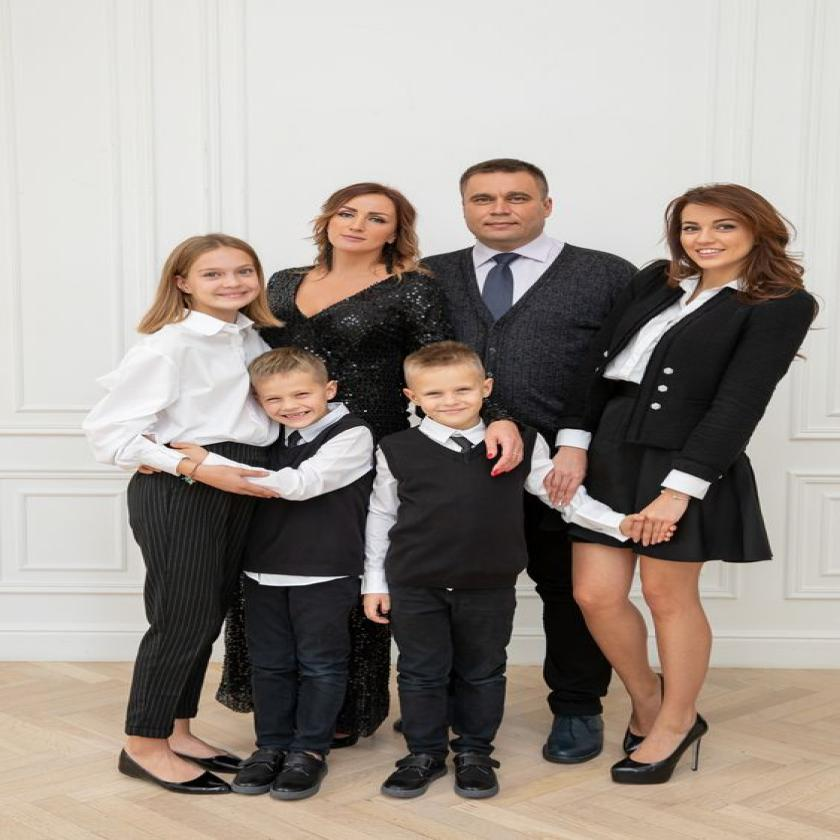Sin_casco: (670, 186, 785, 278), (321, 180, 425, 270), (457, 156, 558, 246), (172, 230, 272, 320), (397, 341, 496, 430), (244, 345, 340, 433)
